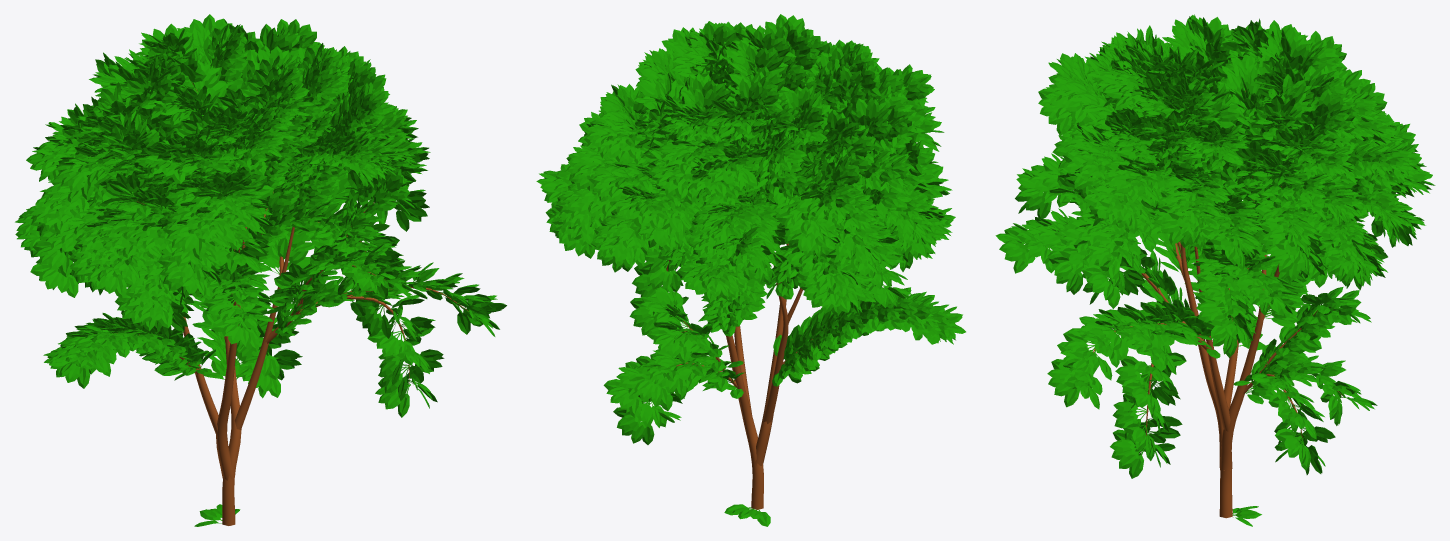
The picture shows the model from 3 angles, left to right: view 1: azimuth 30°, elevation 25°; view 2: azimuth 150°, elevation 25°; view 3: azimuth 270°, elevation 25°; orthographic projection. The views are drawn at different scales.
Parts seen in each view (by area): view 1: tree, leaves|Circle.004|Dupli|1265, leaves|Circle.004|Dupli|376, leaves|Circle.004|Dupli|1260, leaves|Circle.004|Dupli|191, leaves|Circle.004|Dupli|176, leaves|Circle.004|Dupli|186, leaves|Circle.004|Dupli|346, leaves|Circle.004|Dupli|479, leaves|Circle.004|Dupli|1547, leaves|Circle.004|Dupli|402, leaves|Circle.004|Dupli|1714 (+8 smaller); view 2: tree, leaves|Circle.004|Dupli|17, leaves|Circle.004|Dupli|47, leaves|Circle.004|Dupli|40, leaves|Circle.004|Dupli|3318, leaves|Circle.004|Dupli|189, leaves|Circle.004|Dupli|43, leaves|Circle.004|Dupli|197, leaves|Circle.004|Dupli|2863, leaves|Circle.004|Dupli|37, leaves|Circle.004|Dupli|3162, leaves|Circle.004|Dupli|1463 (+7 smaller); view 3: tree, leaves|Circle.004|Dupli|198, leaves|Circle.004|Dupli|662, leaves|Circle.004|Dupli|15, leaves|Circle.004|Dupli|178, leaves|Circle.004|Dupli|622, leaves|Circle.004|Dupli|193, leaves|Circle.004|Dupli|190, leaves|Circle.004|Dupli|2218, leaves|Circle.004|Dupli|188, leaves|Circle.004|Dupli|195, leaves|Circle.004|Dupli|3622 (+10 smaller).
Boxes of the visible parts, x1,y1,x2,y2 form: tree: (117, 56, 468, 525); leaves|Circle.004|Dupli|1265: (30, 263, 78, 297); leaves|Circle.004|Dupli|376: (211, 318, 259, 351); leaves|Circle.004|Dupli|1260: (32, 240, 72, 277); leaves|Circle.004|Dupli|191: (367, 329, 415, 365); leaves|Circle.004|Dupli|176: (456, 294, 492, 334); leaves|Circle.004|Dupli|186: (356, 302, 390, 338); leaves|Circle.004|Dupli|346: (100, 173, 140, 206); leaves|Circle.004|Dupli|479: (393, 193, 429, 231); leaves|Circle.004|Dupli|1547: (163, 221, 206, 259); leaves|Circle.004|Dupli|402: (268, 235, 310, 268); leaves|Circle.004|Dupli|1714: (121, 68, 158, 104); tree: (650, 176, 812, 509); leaves|Circle.004|Dupli|17: (613, 407, 654, 444); leaves|Circle.004|Dupli|47: (647, 327, 690, 363); leaves|Circle.004|Dupli|40: (628, 373, 670, 407); leaves|Circle.004|Dupli|3318: (745, 44, 788, 74); leaves|Circle.004|Dupli|189: (638, 260, 681, 291); leaves|Circle.004|Dupli|43: (603, 379, 642, 417); leaves|Circle.004|Dupli|197: (629, 297, 662, 335); leaves|Circle.004|Dupli|2863: (753, 27, 796, 64); leaves|Circle.004|Dupli|37: (646, 360, 686, 398); leaves|Circle.004|Dupli|3162: (751, 71, 782, 113); leaves|Circle.004|Dupli|1463: (693, 77, 735, 110); tree: (1083, 65, 1342, 518); leaves|Circle.004|Dupli|198: (1110, 429, 1145, 478); leaves|Circle.004|Dupli|662: (1081, 264, 1120, 308); leaves|Circle.004|Dupli|15: (1275, 428, 1310, 470); leaves|Circle.004|Dupli|178: (1047, 359, 1079, 407); leaves|Circle.004|Dupli|622: (1048, 253, 1082, 294); leaves|Circle.004|Dupli|193: (1112, 393, 1146, 439); leaves|Circle.004|Dupli|190: (1122, 379, 1160, 420); leaves|Circle.004|Dupli|2218: (1038, 88, 1071, 135); leaves|Circle.004|Dupli|188: (1115, 356, 1149, 404); leaves|Circle.004|Dupli|195: (1123, 420, 1155, 460); leaves|Circle.004|Dupli|3622: (1251, 95, 1295, 127).
Size of the model in its own units: 602 by 695 by 573.
